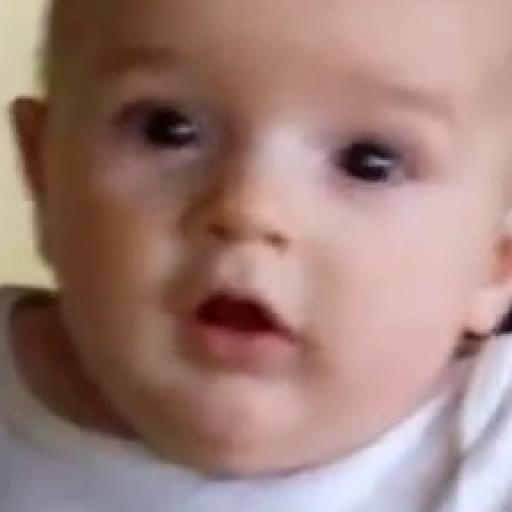Autism: (35, 1, 502, 489)
